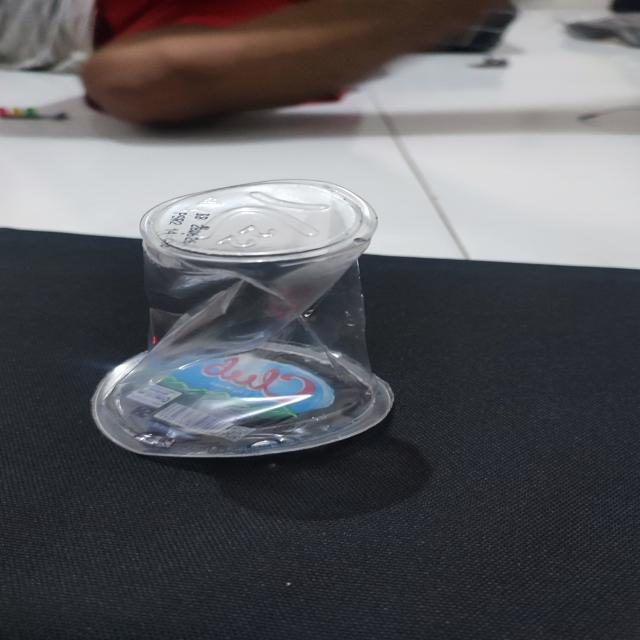air-gelas-rusak: (86, 175, 413, 454)
